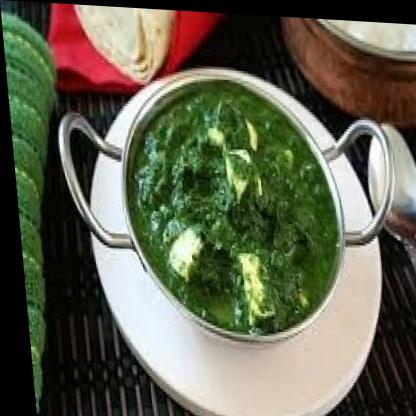palak_paneer: (115, 73, 342, 337)
